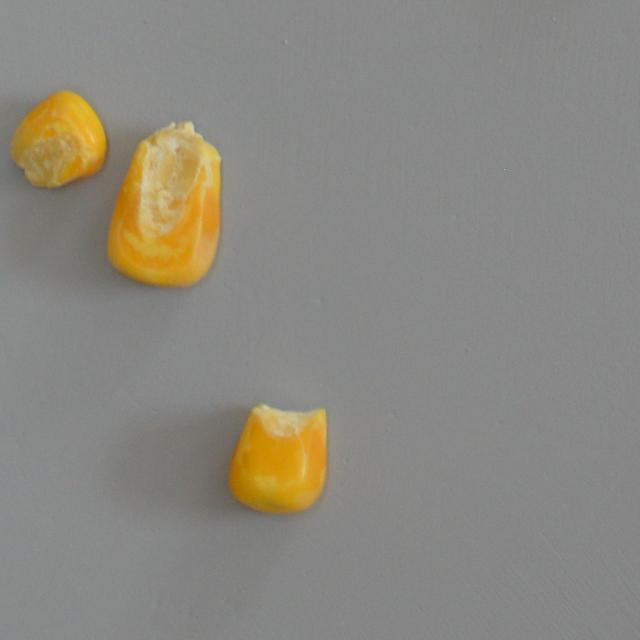no_canjicado: (227, 402, 329, 516)
no_desgerminado: (106, 118, 224, 292), (8, 90, 108, 191)
